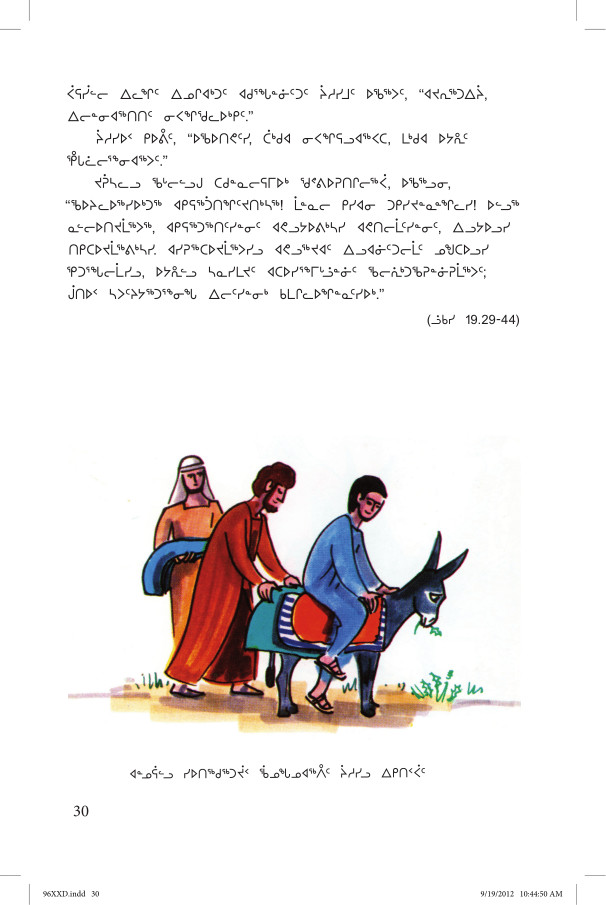inuktitut: (59, 77, 528, 303), (123, 758, 431, 780)
